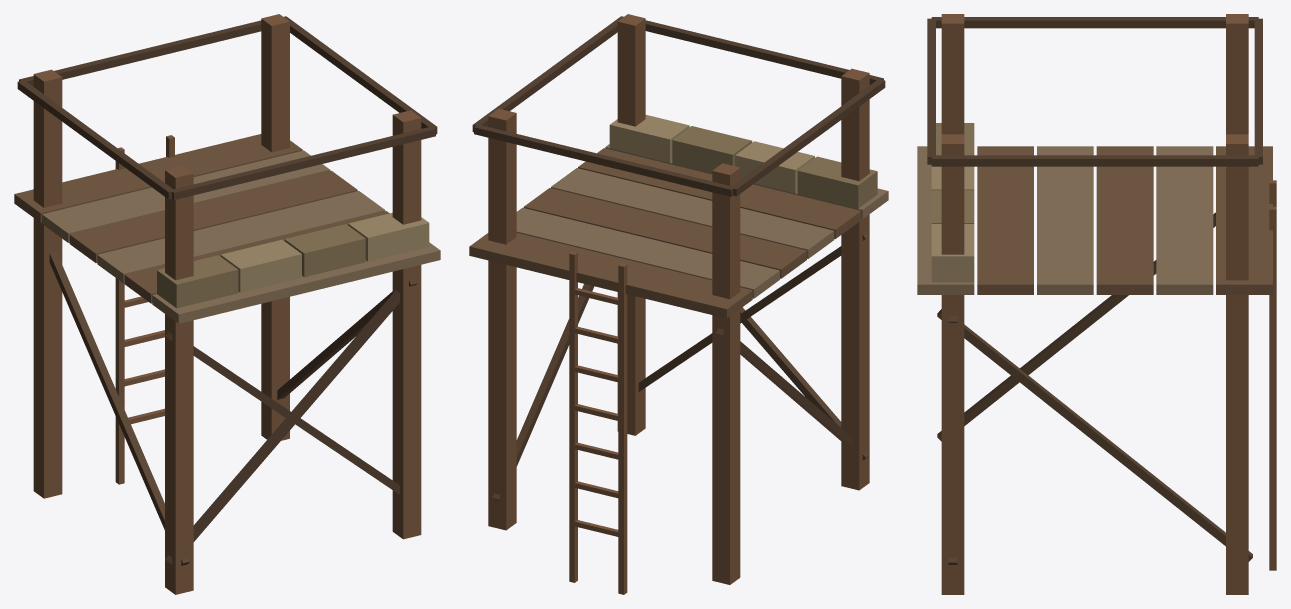
Rendered from room_watchtower_2.glb.
3 renders of one model, left to right at view 1: azimuth 30°, elevation 25°; view 2: azimuth 150°, elevation 25°; view 3: azimuth 270°, elevation 25°, orthographic. The views are drawn at different scales.
Visible parts, largest first — view 1: room_watchtower_2; view 2: room_watchtower_2; view 3: room_watchtower_2.
Part boxes in pixels (box(x1,y1,x2,y2)): room_watchtower_2: box(14, 14, 440, 594); room_watchtower_2: box(469, 14, 888, 594); room_watchtower_2: box(917, 14, 1276, 594).
Size of the model in its own units: 2.36 by 3.7 by 2.52.
